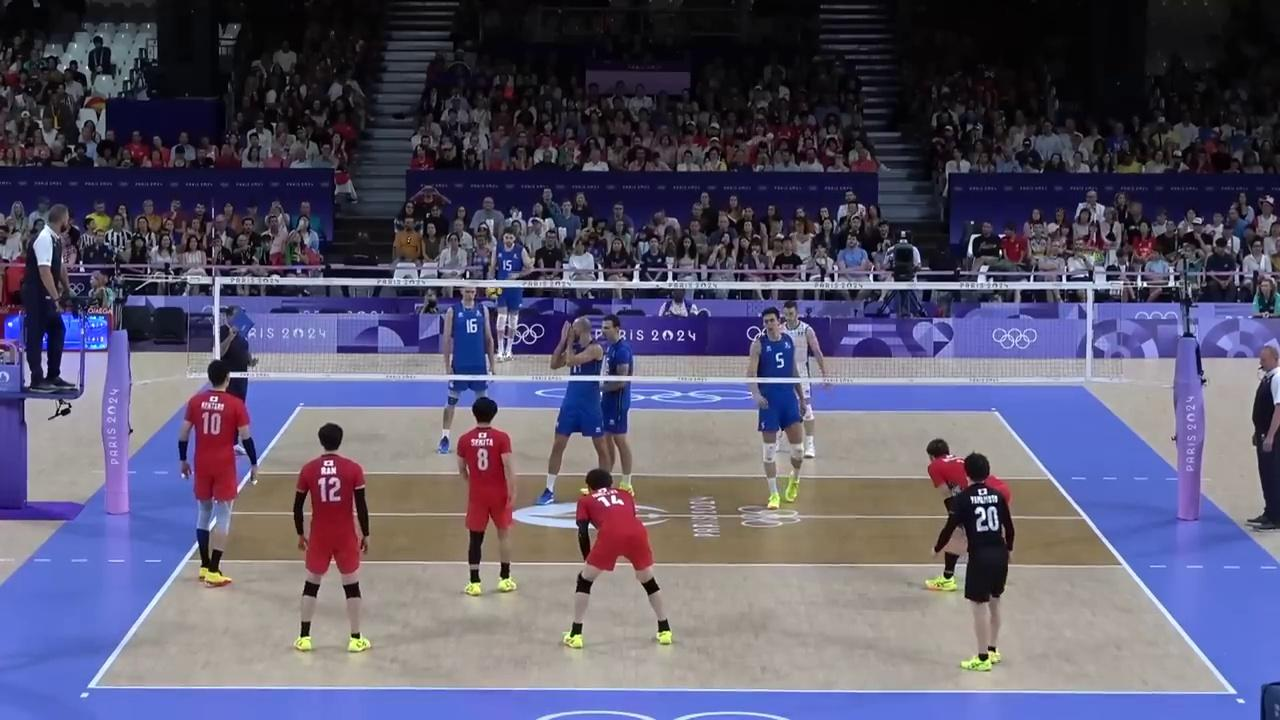ball: (488, 284, 502, 298)
